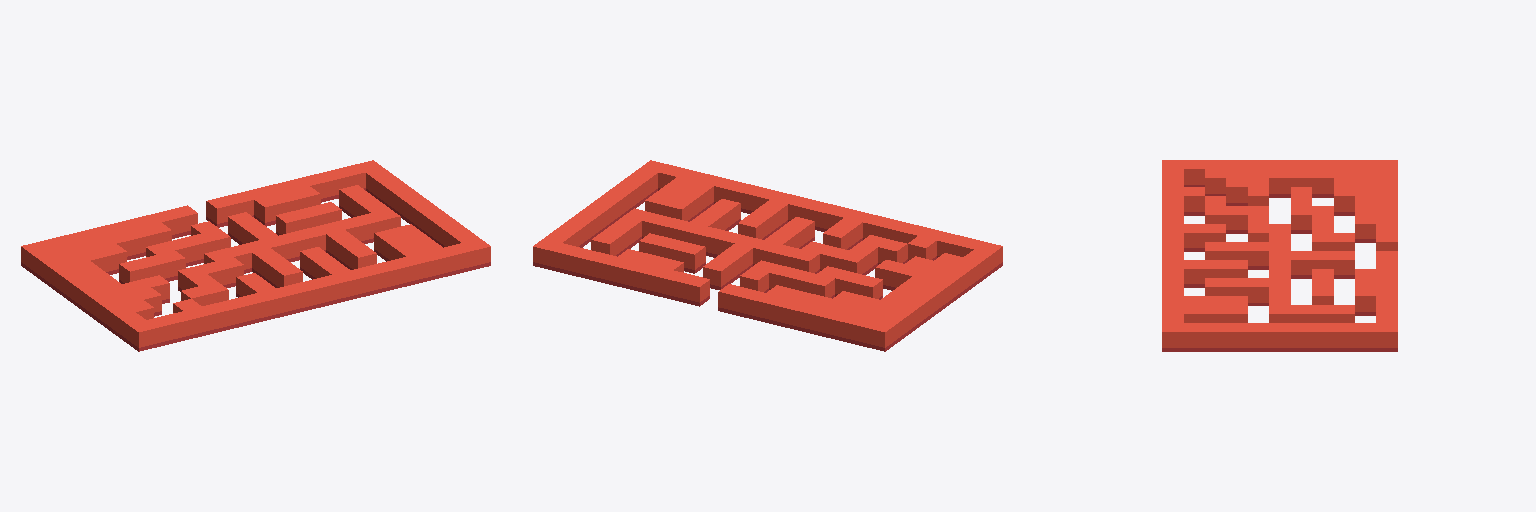
Rendered from map11.obj.
3 renders of one model, left to right at view 1: azimuth 30°, elevation 25°; view 2: azimuth 150°, elevation 25°; view 3: azimuth 270°, elevation 25°, orthographic.
Visible parts, largest first — view 1: mergedBlocks; view 2: mergedBlocks; view 3: mergedBlocks.
Part boxes in pixels (bbox=[...]): mergedBlocks: bbox=[21, 160, 490, 351]; mergedBlocks: bbox=[533, 160, 1002, 351]; mergedBlocks: bbox=[1162, 160, 1397, 351].
Bounding box in the file's own units: 19 × 1 × 11.